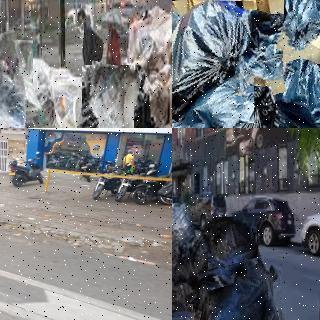Garbage: (172, 0, 261, 128), (201, 260, 280, 320), (172, 52, 233, 128), (269, 43, 320, 128), (238, 12, 295, 88), (204, 214, 262, 286), (77, 62, 138, 128), (0, 34, 40, 128), (223, 81, 289, 128), (279, 0, 320, 61)
